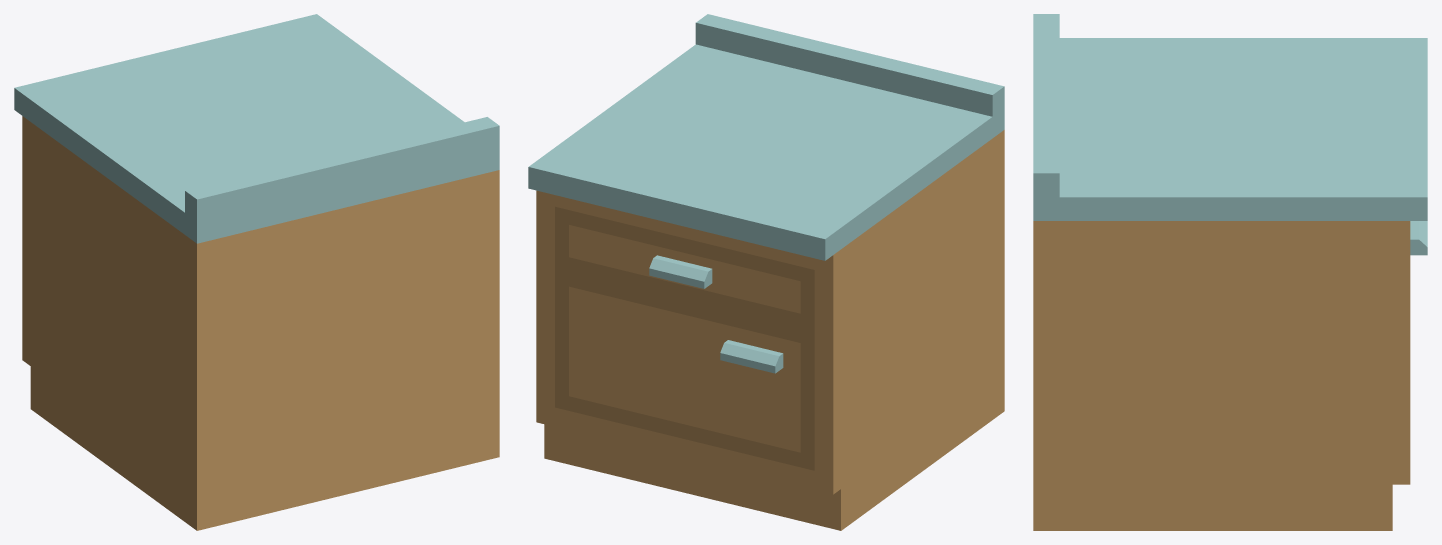
The model's file is kitchenCabinetDrawer1.glb.
3 views of the same model, side by side, from view 1: azimuth 30°, elevation 25°; view 2: azimuth 150°, elevation 25°; view 3: azimuth 270°, elevation 25° (orthographic). The views are drawn at different scales.
Bounding box in the file's own units: 4.3 × 4.5 × 4.5.
